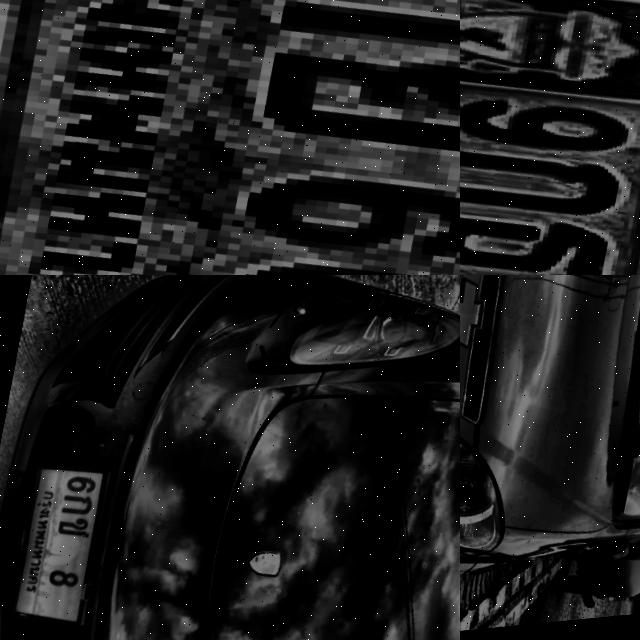license-plate: (0, 0, 460, 275), (460, 0, 640, 275), (0, 438, 132, 640)
